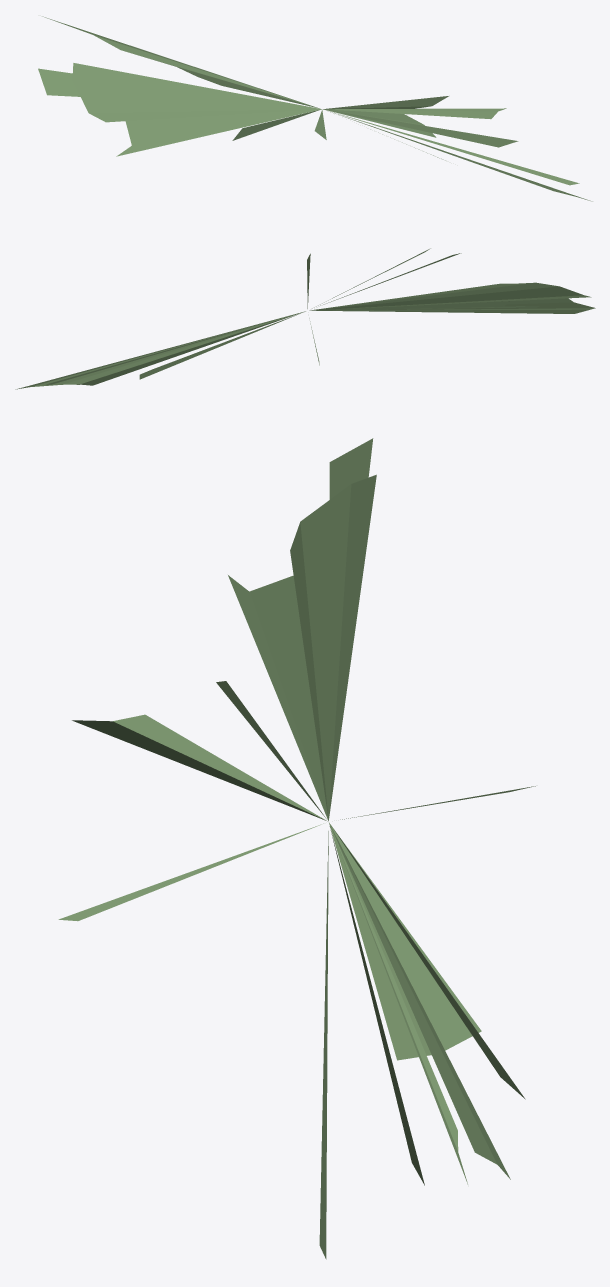
The model's file is c_1664_17820_parks.glb.
3 views of the same model, one above another, from view 1: azimuth 30°, elevation 25°; view 2: azimuth 150°, elevation 25°; view 3: azimuth 270°, elevation 25° (orthographic). The views are drawn at different scales.
Parts seen in each view (by area): view 1: geometry_0; view 2: geometry_0; view 3: geometry_0.
Boxes of the visible parts, x1,y1,x2,y2 form: geometry_0: (38,16,592,201); geometry_0: (15,248,595,389); geometry_0: (58,438,535,1259).
Bounding box in the file's own units: 429 × 194 × 233.
